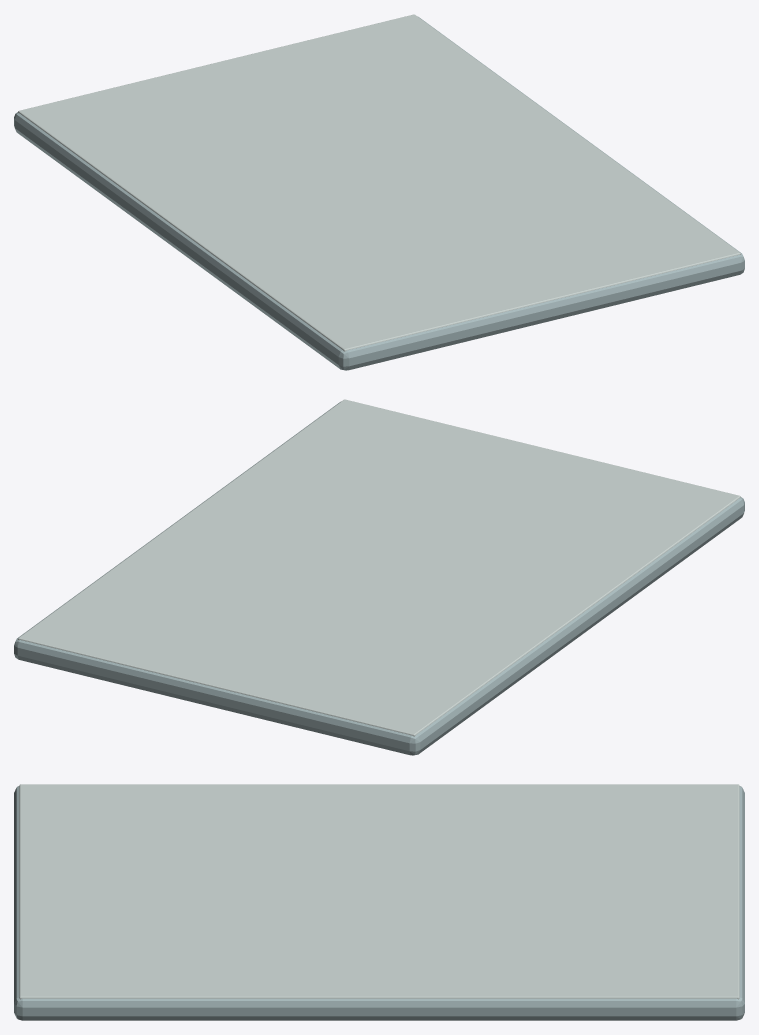
File: terrain_2.glb
3 renders of one model, top to bottom at view 1: azimuth 30°, elevation 25°; view 2: azimuth 150°, elevation 25°; view 3: azimuth 270°, elevation 25°, orthographic. The views are drawn at different scales.
Visible parts, largest first — view 1: terrain_2_terrain_2, terrain_2_Ocean_basalt; view 2: terrain_2_terrain_2, terrain_2_Ocean_basalt; view 3: terrain_2_terrain_2, terrain_2_Ocean_basalt.
Part boxes in pixels (bbox=[...]): terrain_2_terrain_2: bbox=[18, 14, 740, 351]; terrain_2_Ocean_basalt: bbox=[14, 16, 744, 370]; terrain_2_terrain_2: bbox=[18, 399, 740, 736]; terrain_2_Ocean_basalt: bbox=[14, 401, 744, 755]; terrain_2_terrain_2: bbox=[19, 784, 739, 999]; terrain_2_Ocean_basalt: bbox=[14, 786, 744, 1020].
Size of the model in its own units: 19.2 by 1.01 by 27.2.
